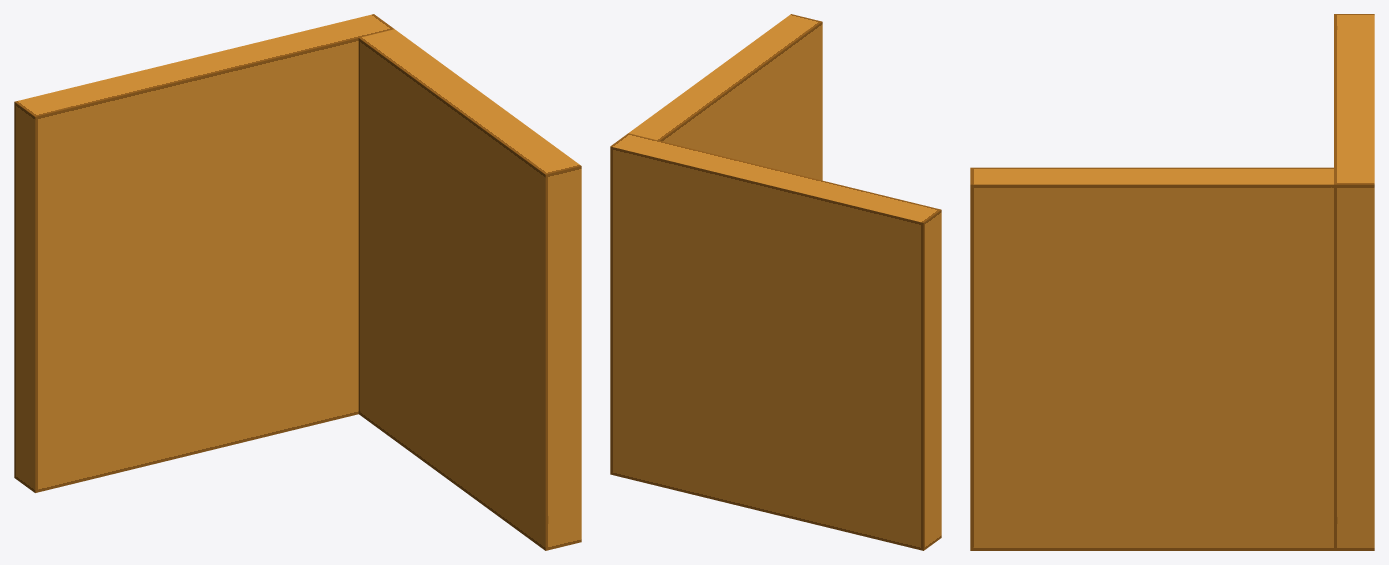
File: corner.glb
3 renders of one model, left to right at view 1: azimuth 30°, elevation 25°; view 2: azimuth 150°, elevation 25°; view 3: azimuth 270°, elevation 25°, orthographic. The views are drawn at different scales.
Parts seen in each view (by area): view 1: corner-col; view 2: corner-col; view 3: corner-col.
Part boxes in pixels (x1=…): corner-col: x1=14, y1=14, x2=581, y2=550; corner-col: x1=610, y1=14, x2=941, y2=550; corner-col: x1=970, y1=14, x2=1374, y2=550.
Bounding box in the file's own units: 2 × 2 × 2.
Materials: 1 (1 with a texture image).
